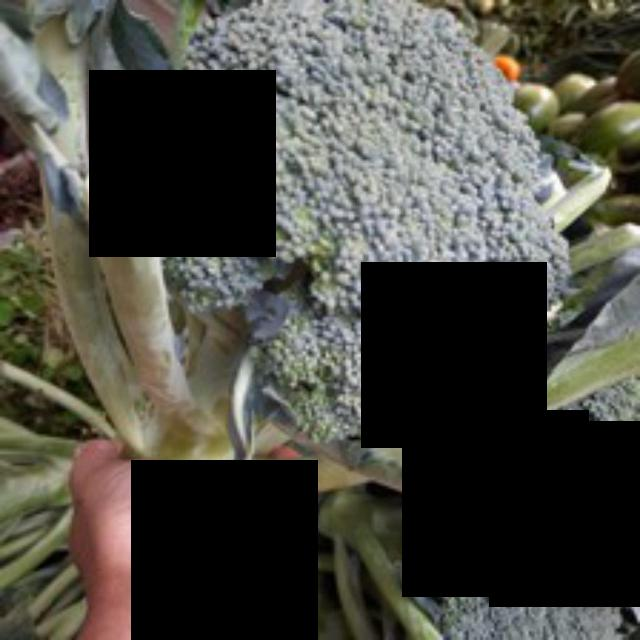broccoli: (111, 0, 590, 475)
